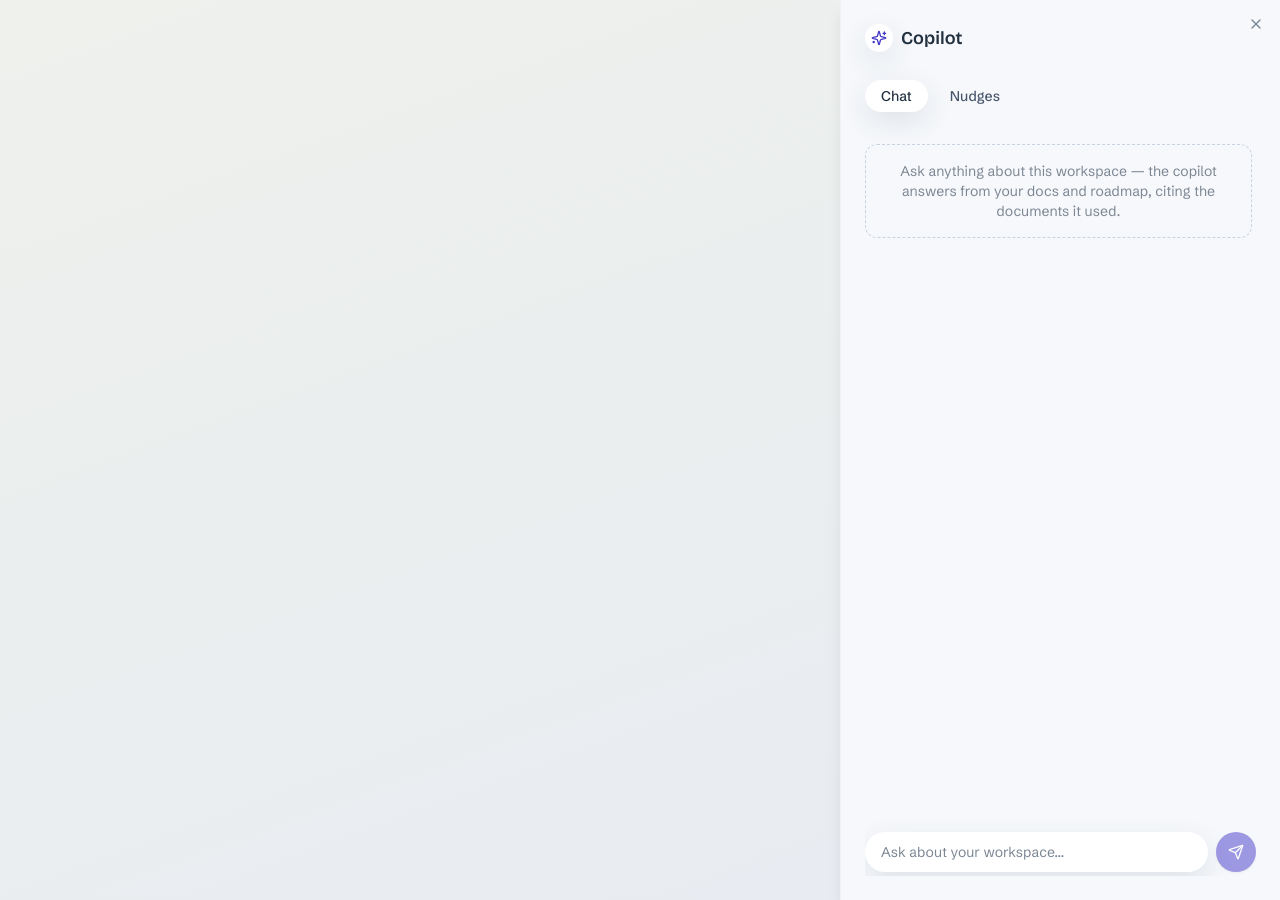
CopilotPanel › lists nudges with click-through links on the Nudges tab
Note: wait for ProjectProvider to resolve
Click the tab "Nudges". click: [975, 96]
box: x1=934 y1=80 x2=1016 y2=112
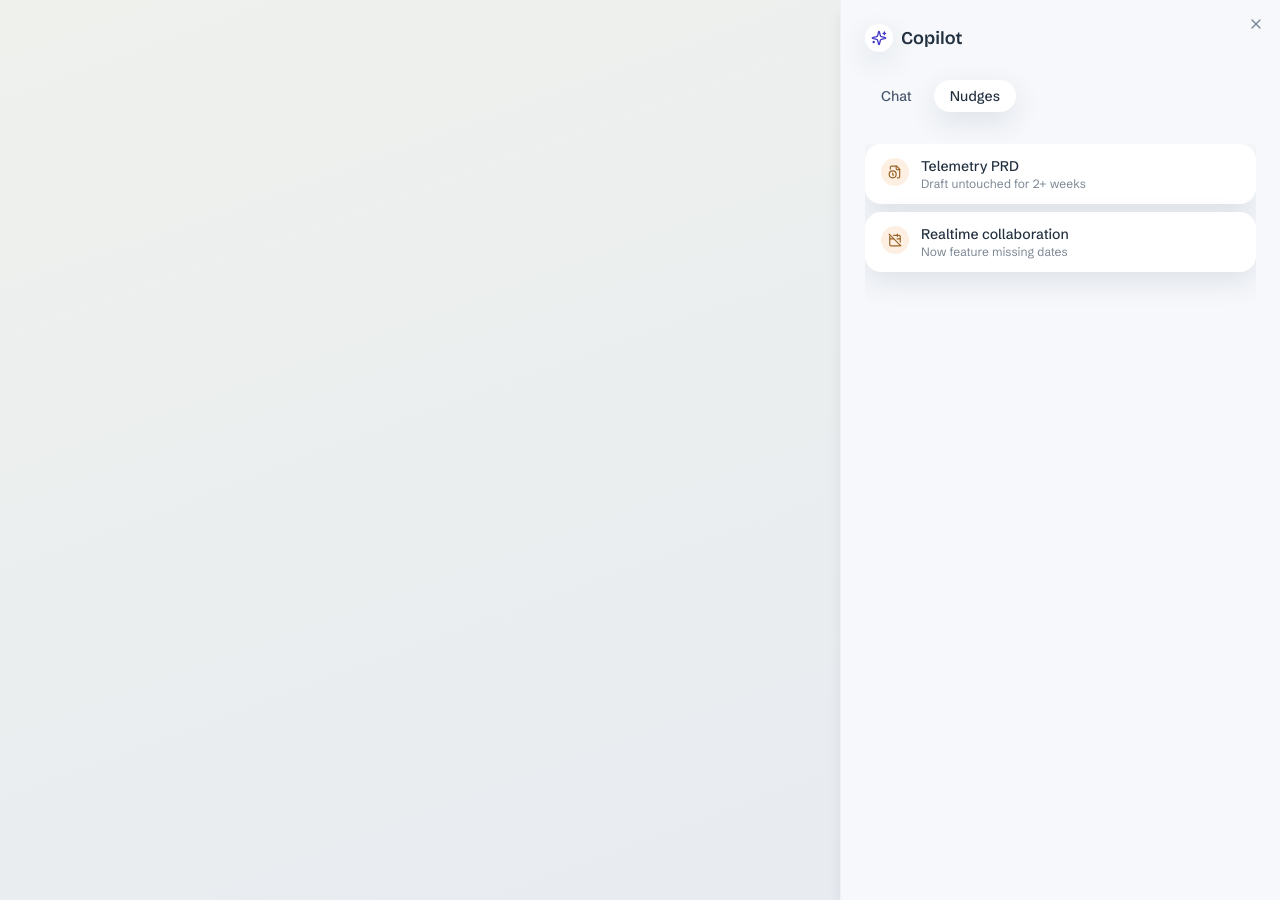
Expected: the text "Draft untouched for 2+ weeks" is shown, x1=921 y1=176 x2=1086 y2=192
Expected: the text "Now feature missing dates" is shown, x1=921 y1=244 x2=1069 y2=260
